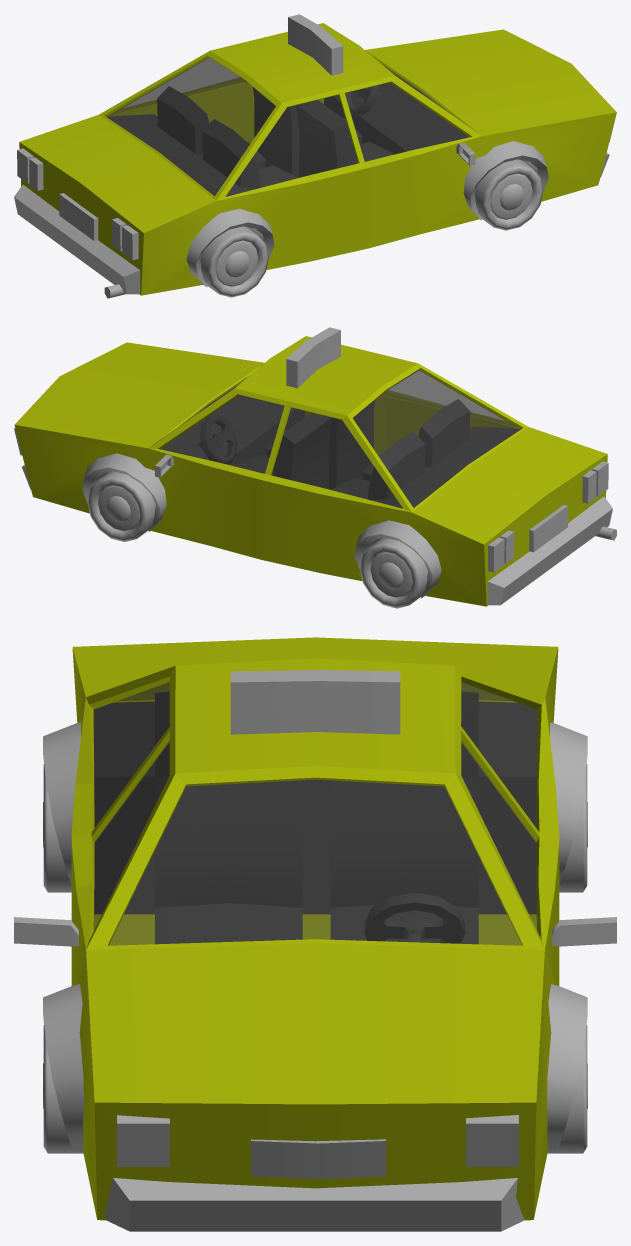
File: TaxiLP.fbx
3 renders of one model, top to bottom at view 1: azimuth 30°, elevation 25°; view 2: azimuth 150°, elevation 25°; view 3: azimuth 270°, elevation 25°, orthographic. The views are drawn at different scales.
Parts seen in each view (by area): view 1: Body, Windows, Seats, Covers, Wheels, WheelArches, Bumpers, TaxiSign, Lights, NumberPlates, SteeringWheel; view 2: Body, Windows, Seats, Wheels, Covers, WheelArches, Bumpers, TaxiSign, Lights, SteeringWheel, NumberPlates; view 3: Body, Windows, Seats, Covers, Bumpers, WheelArches, TaxiSign, Wheels, Lights, NumberPlates, SteeringWheel, Mirror.
Boxes of the visible parts, x1,y1,x2,y2 form: Body: (19,23,616,295); Windows: (106,57,469,196); Seats: (157,86,392,188); Covers: (107,73,468,196); Wheels: (200,159,543,297); WheelArches: (186,141,548,286); Bumpers: (14,153,609,294); TaxiSign: (288,14,343,75); Lights: (17,123,614,260); NumberPlates: (59,193,98,240); SteeringWheel: (345,85,380,116); Body: (14,336,607,606); Windows: (161,370,520,508); Seats: (236,399,470,500); Wheels: (87,471,427,608); Covers: (161,385,520,508); WheelArches: (82,453,441,598); Bumpers: (22,465,612,605); TaxiSign: (286,327,340,388); Lights: (14,428,608,572); SteeringWheel: (198,415,236,463); NumberPlates: (529,504,567,552); Body: (71,637,559,1220); Windows: (93,682,537,945); Seats: (155,691,478,944); Covers: (93,701,537,914); Bumpers: (105,1178,524,1231); WheelArches: (43,722,587,1151); TaxiSign: (230,670,400,734); Wheels: (43,763,587,1153); Lights: (117,1115,518,1166); NumberPlates: (251,1139,386,1178); SteeringWheel: (364,892,465,943); Mirror: (14,917,616,946).
Size of the model in its own units: 8.52 by 2.87 by 4.46.
